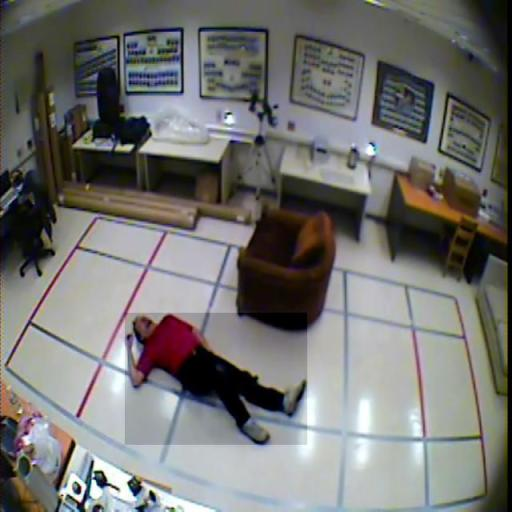Fall: (125, 313, 307, 445)
